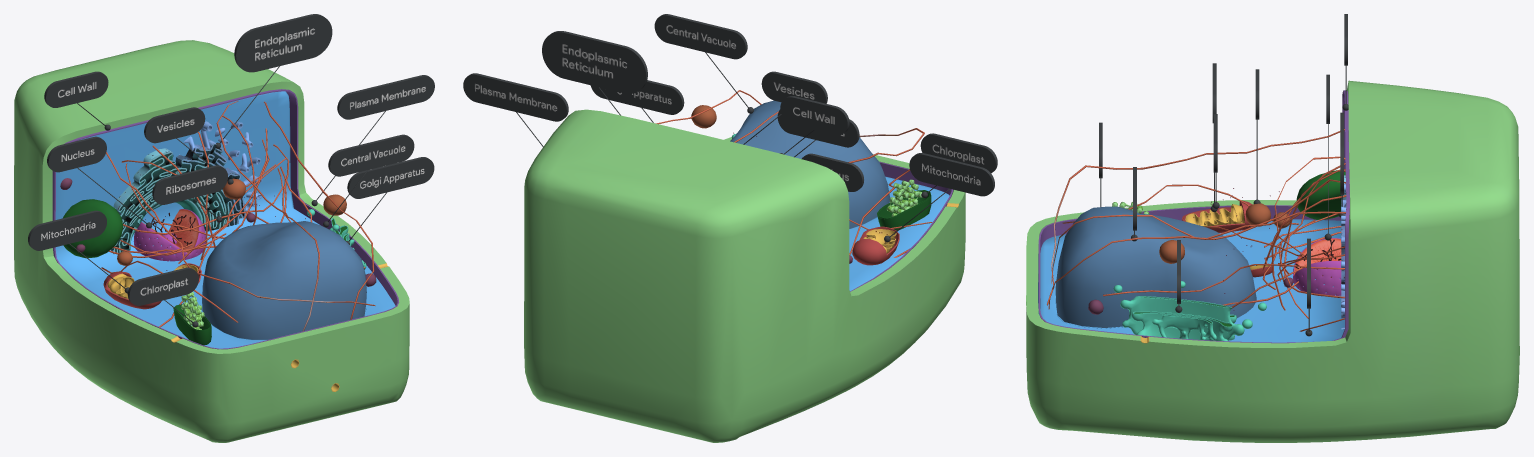
File: plant_cell.fbx
The picture shows the model from 3 angles, left to right: view 1: azimuth 30°, elevation 25°; view 2: azimuth 150°, elevation 25°; view 3: azimuth 270°, elevation 25°; orthographic projection. The views are drawn at different scales.
Visible parts, largest first — view 1: node_e61c861a_98aa_4eb8_90e1_fb09e2cd3827_mesh0, node_84f99dba_565b_4fa2_ae71_fa362d68644f_mesh0, node_78b5ab6a_3275_471f_8ccf_f724890f38b7_mesh0, node_6ff76807_42cb_439a_90e6_b466954fcc37_mesh0; view 2: node_e61c861a_98aa_4eb8_90e1_fb09e2cd3827_mesh0, node_78b5ab6a_3275_471f_8ccf_f724890f38b7_mesh0, node_84f99dba_565b_4fa2_ae71_fa362d68644f_mesh0, node_6ff76807_42cb_439a_90e6_b466954fcc37_mesh0; view 3: node_e61c861a_98aa_4eb8_90e1_fb09e2cd3827_mesh0, node_84f99dba_565b_4fa2_ae71_fa362d68644f_mesh0, node_78b5ab6a_3275_471f_8ccf_f724890f38b7_mesh0, node_6ff76807_42cb_439a_90e6_b466954fcc37_mesh0.
Boxes of the visible parts, left/top/right/bottom form: node_e61c861a_98aa_4eb8_90e1_fb09e2cd3827_mesh0: left=14, top=40, right=409, bottom=442; node_84f99dba_565b_4fa2_ae71_fa362d68644f_mesh0: left=55, top=91, right=395, bottom=385; node_78b5ab6a_3275_471f_8ccf_f724890f38b7_mesh0: left=28, top=14, right=434, bottom=327; node_6ff76807_42cb_439a_90e6_b466954fcc37_mesh0: left=103, top=263, right=201, bottom=309; node_e61c861a_98aa_4eb8_90e1_fb09e2cd3827_mesh0: left=524, top=90, right=965, bottom=442; node_78b5ab6a_3275_471f_8ccf_f724890f38b7_mesh0: left=463, top=14, right=997, bottom=242; node_84f99dba_565b_4fa2_ae71_fa362d68644f_mesh0: left=730, top=100, right=949, bottom=291; node_6ff76807_42cb_439a_90e6_b466954fcc37_mesh0: left=852, top=226, right=899, bottom=265; node_e61c861a_98aa_4eb8_90e1_fb09e2cd3827_mesh0: left=1026, top=80, right=1519, bottom=442; node_84f99dba_565b_4fa2_ae71_fa362d68644f_mesh0: left=1038, top=206, right=1344, bottom=342; node_78b5ab6a_3275_471f_8ccf_f724890f38b7_mesh0: left=1099, top=14, right=1348, bottom=336; node_6ff76807_42cb_439a_90e6_b466954fcc37_mesh0: left=1182, top=200, right=1272, bottom=277.
Size of the model in its own units: 66.45 by 39.77 by 57.01.
3 materials, 3 textured.
